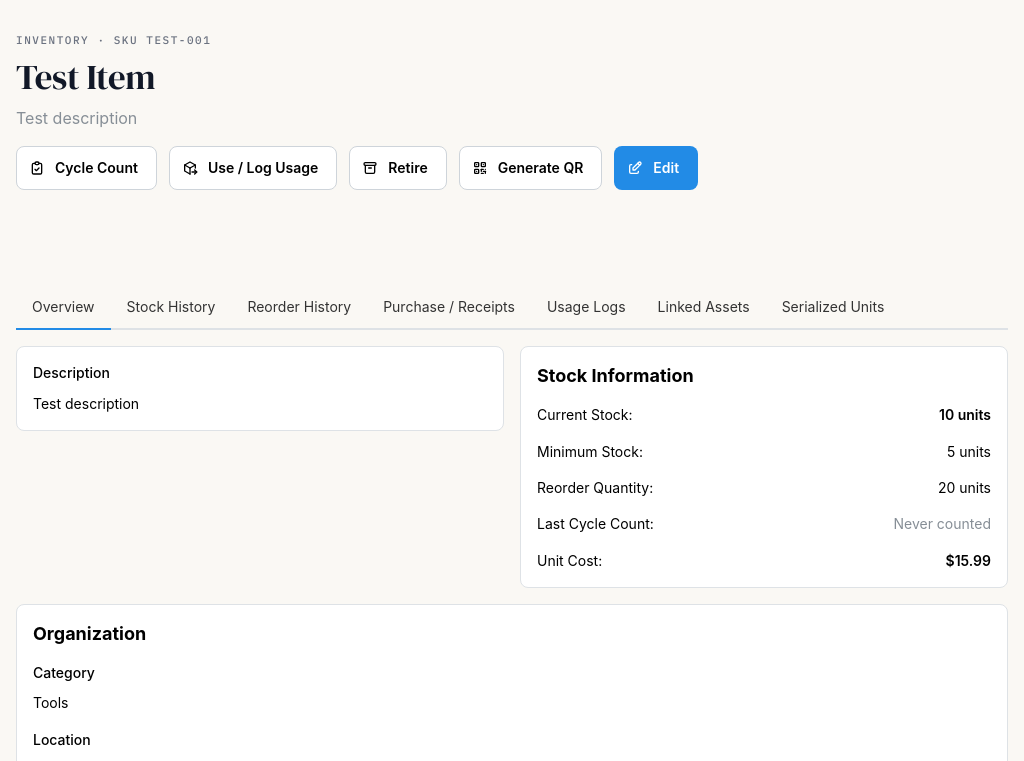
Test case: InventoryItemDetailPage — log usage › surfaces a 403 as an inline permission error
The image size is (1024, 761).
Expected: the heading "Test Item" is shown, [16,53,155,101]
Click the button with test id "log-usage-button".
click(253, 168)  # box [169,146,337,190]
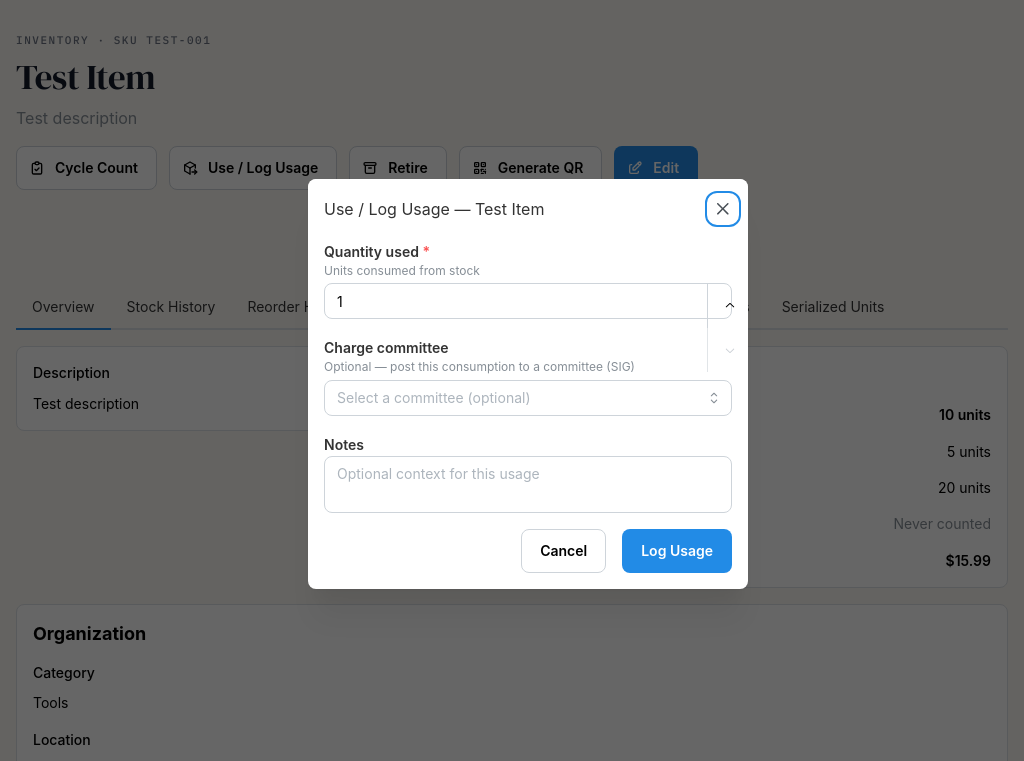
Now the button with test id "log-usage-submit" is shown, box [622,529,732,573]
Click the dropdown with placeholder "Select a committee (optional)".
click(528, 398)  # box [324,380,732,416]
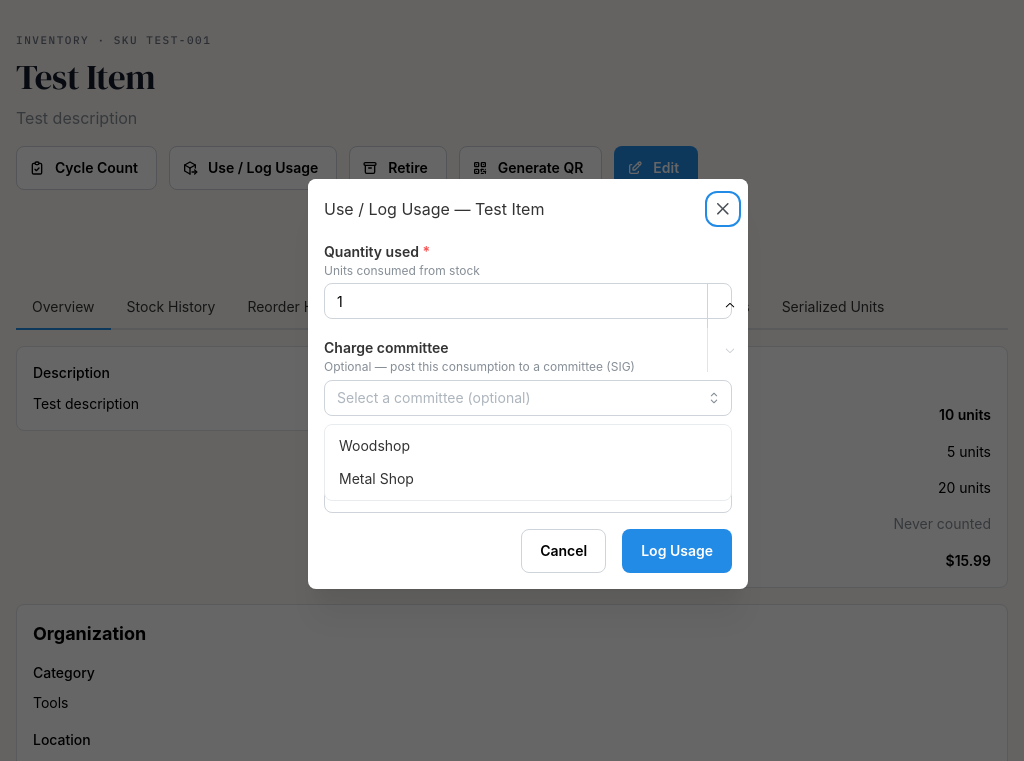
Click the option "Woodshop".
click(375, 445)  # box [339,437,410,454]
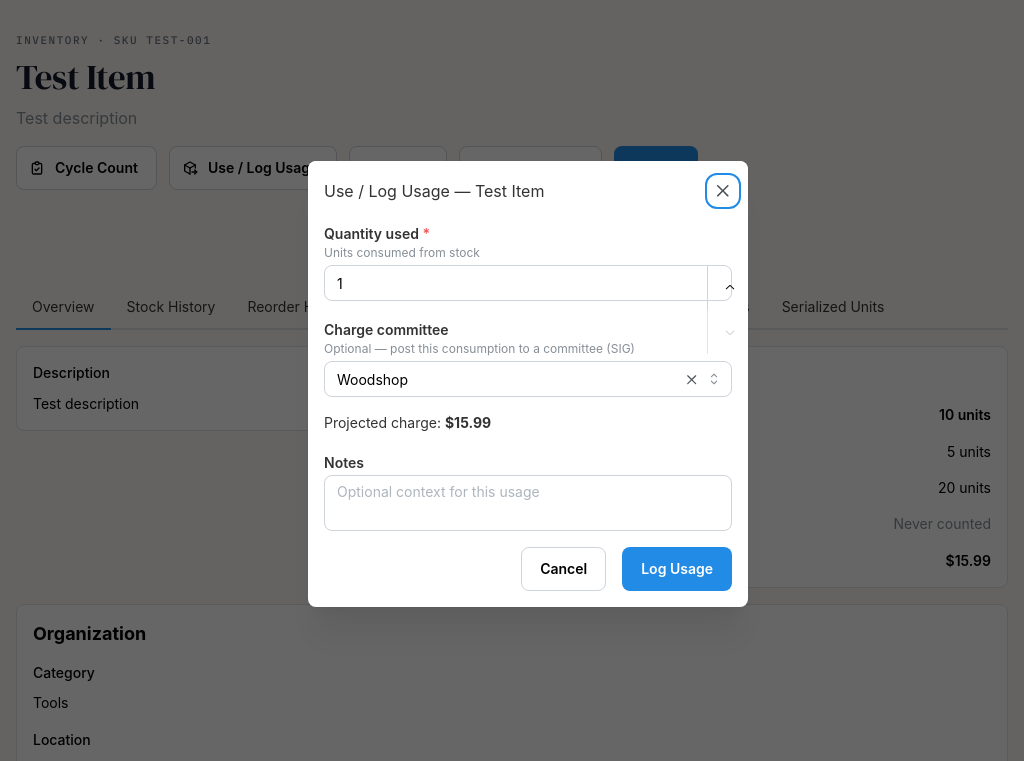
Click the button with test id "log-usage-submit".
click(677, 569)  # box [622,547,732,591]
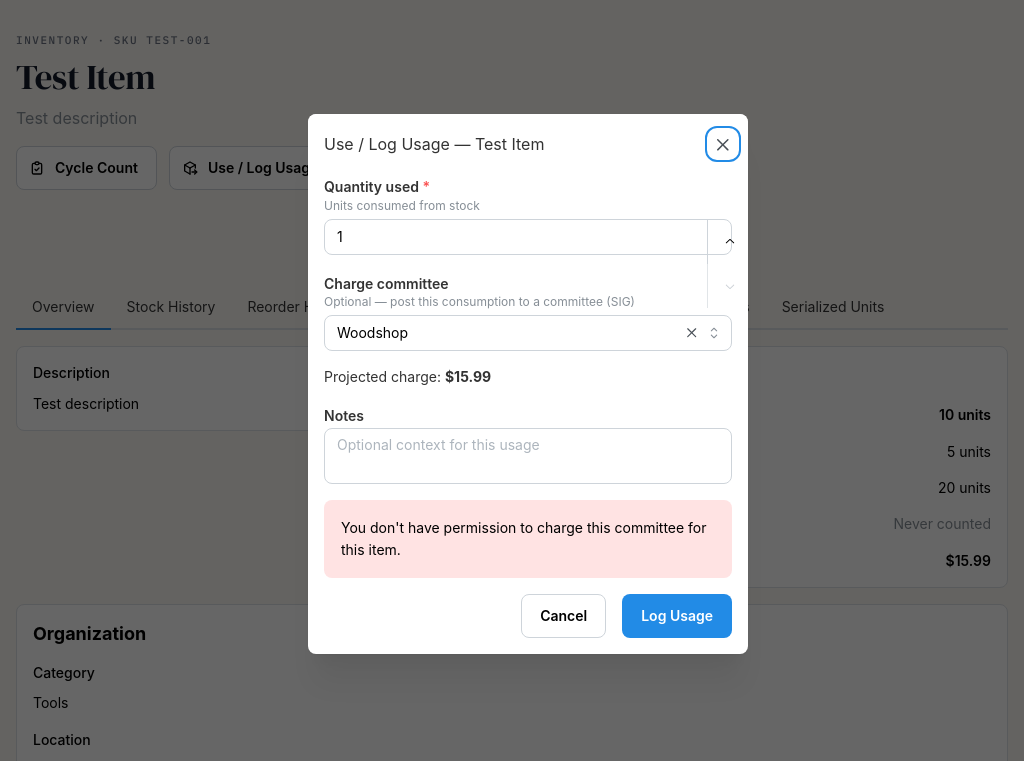
Now the message with test id "log-usage-error" shows "permission", box [341,519,706,558]
